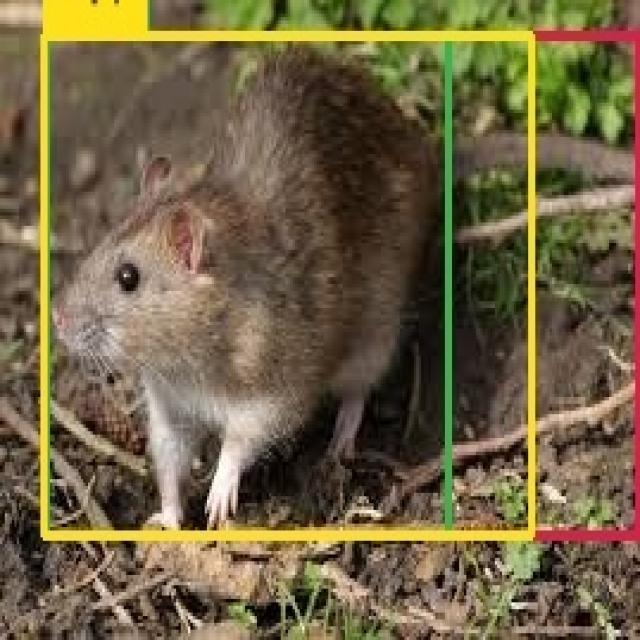rat: (45, 36, 638, 536), (45, 36, 531, 536), (48, 38, 450, 534)
